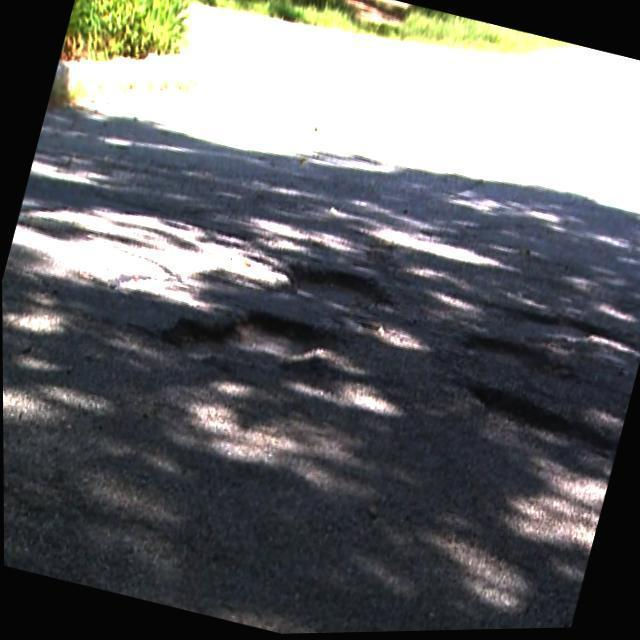Pothole: (152, 299, 330, 367), (456, 378, 599, 443), (277, 257, 397, 315), (460, 329, 578, 378)
